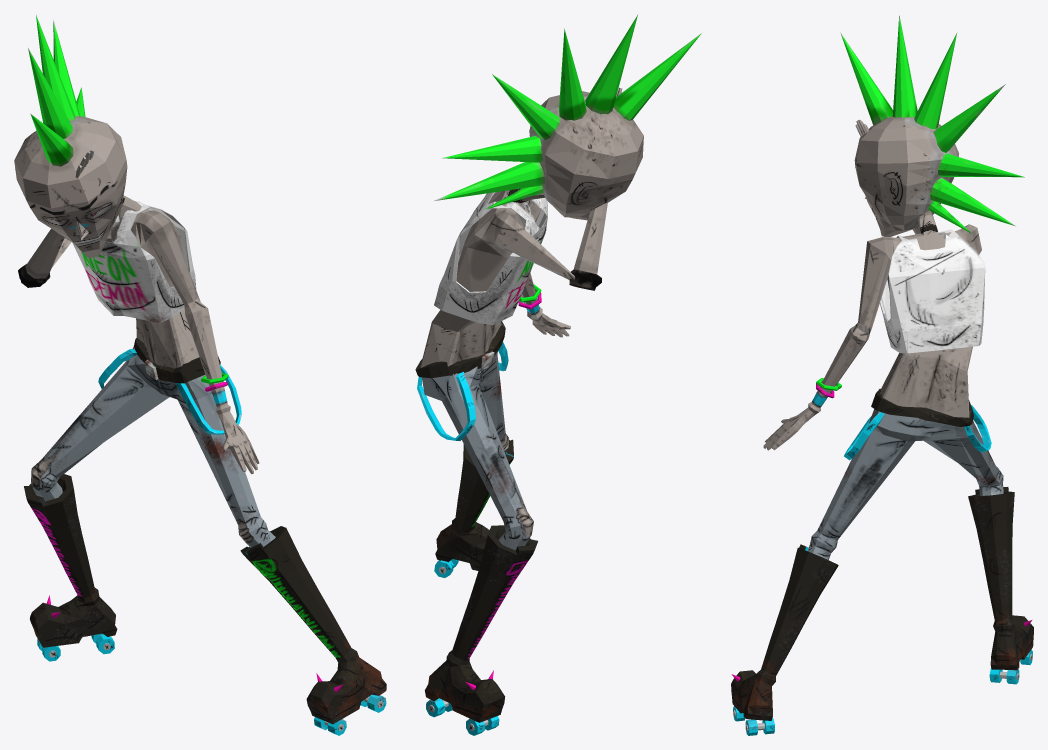
Rendered from punkAnimation_000011.obj.
The picture shows the model from 3 angles, left to right: view 1: azimuth 30°, elevation 25°; view 2: azimuth 150°, elevation 25°; view 3: azimuth 270°, elevation 25°; orthographic projection. The views are drawn at different scales.
Parts seen in each view (by area): view 1: Cube.004_Cube.003; view 2: Cube.004_Cube.003; view 3: Cube.004_Cube.003.
Part boxes in pixels (x1=…): Cube.004_Cube.003: x1=14, y1=15, x2=386, y2=735; Cube.004_Cube.003: x1=415, y1=15, x2=701, y2=735; Cube.004_Cube.003: x1=731, y1=15, x2=1033, y2=735.
Size of the model in its own units: 3.17 by 6.71 by 3.01.
